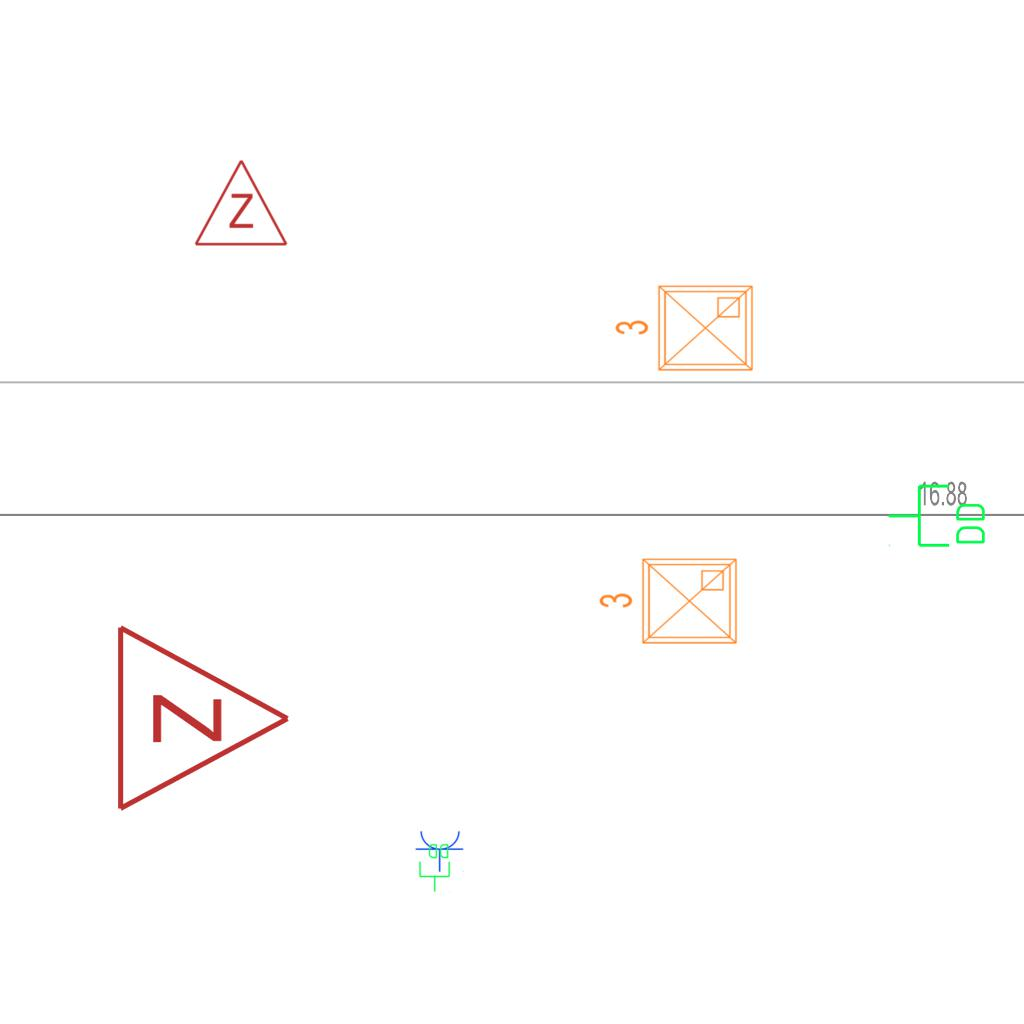Datenanschluss_zweifach: (886, 482, 989, 551), (418, 842, 452, 893)
Einbaudownlights_LED_Konferenzraeume: (594, 551, 744, 655), (610, 278, 760, 382)
Schukosteckdose_einfach: (415, 829, 465, 872)
Zimmersignalleuchte: (103, 618, 303, 814), (191, 153, 289, 253)
